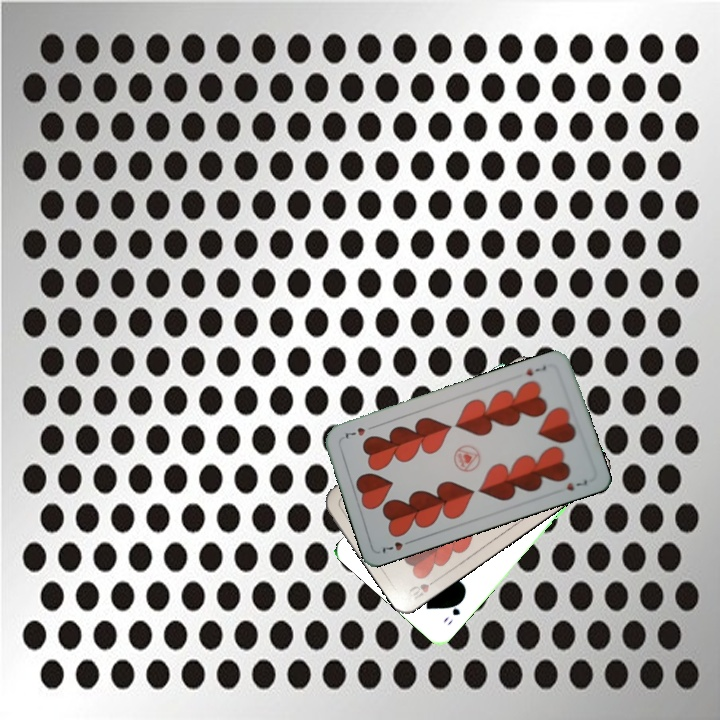GO: (439, 595, 466, 628)
H10: (404, 574, 441, 605)
H7: (377, 536, 416, 556), (522, 361, 549, 378)
